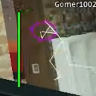hacks_2: (17, 11, 96, 88)
